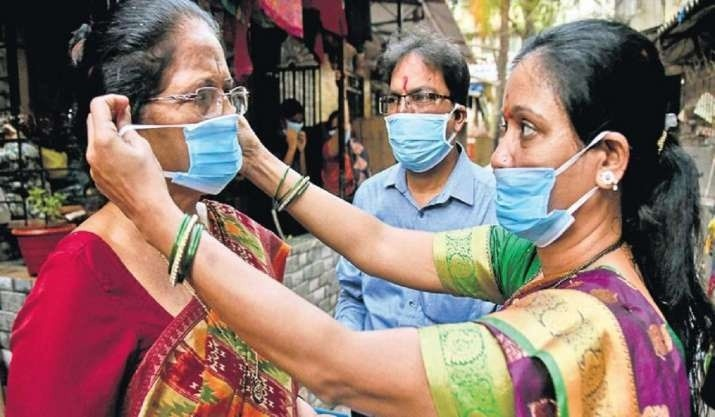face_with_mask: (490, 24, 661, 242), (89, 7, 241, 190), (379, 38, 466, 174)
